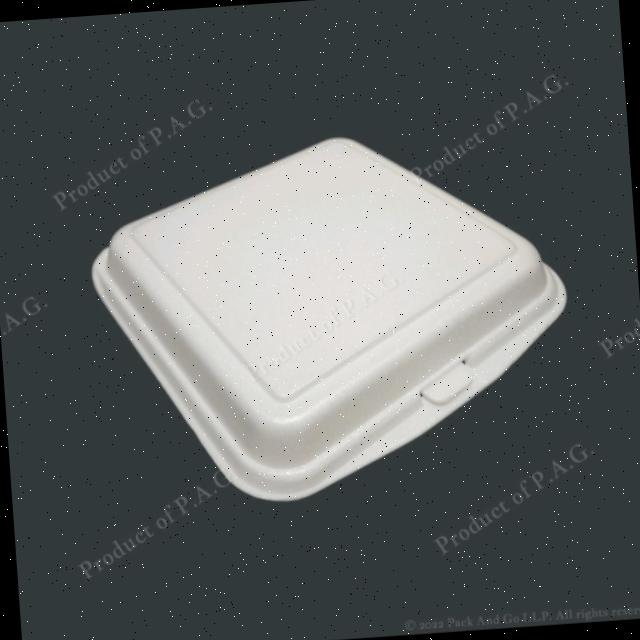styrofoam: (80, 119, 580, 515)
